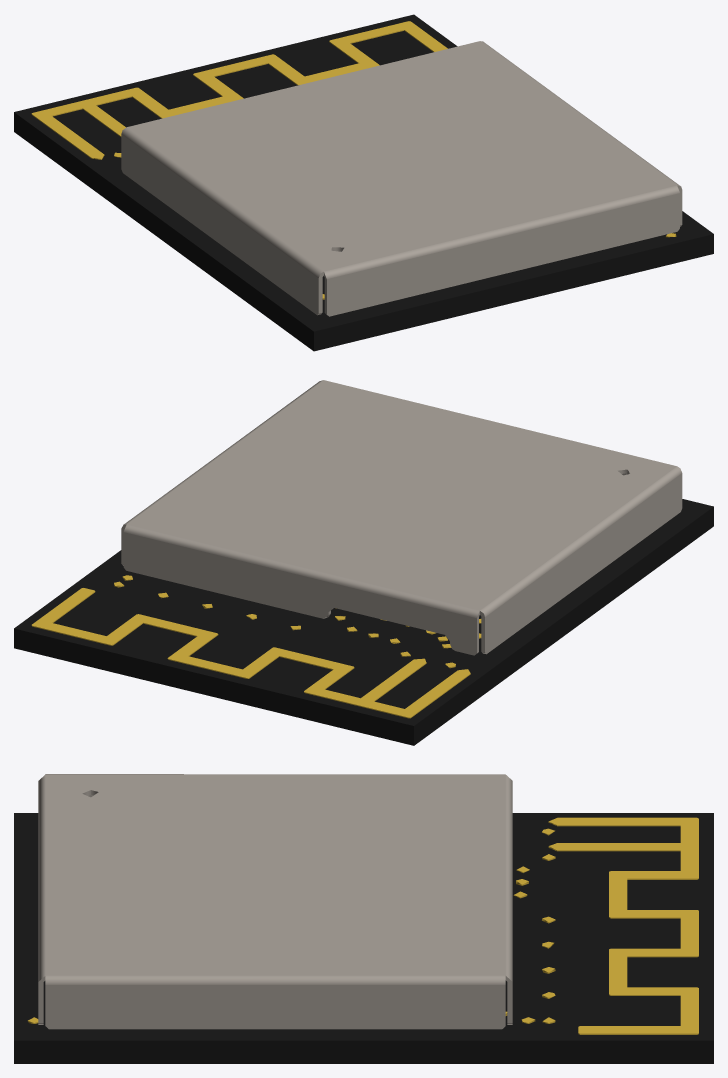
The model's file is esp-esp32-s2-mini-1.glb.
3 views of the same model, one above another, from view 1: azimuth 30°, elevation 25°; view 2: azimuth 150°, elevation 25°; view 3: azimuth 270°, elevation 25° (orthographic). The views are drawn at different scales.
Parts seen in each view (by area): view 1: 0.4166666666666667_0.3333333333333333_0.3333333333333333_0, 0_0_0_0, 0.6666666666666666_0.4166666666666667_0_0; view 2: 0.4166666666666667_0.3333333333333333_0.3333333333333333_0, 0_0_0_0, 0.6666666666666666_0.4166666666666667_0_0; view 3: 0.4166666666666667_0.3333333333333333_0.3333333333333333_0, 0_0_0_0, 0.6666666666666666_0.4166666666666667_0_0.
Boxes of the visible parts, x1,y1,x2,y2 form: 0.4166666666666667_0.3333333333333333_0.3333333333333333_0: [121, 41, 682, 316]; 0_0_0_0: [14, 14, 713, 351]; 0.6666666666666666_0.4166666666666667_0_0: [31, 21, 676, 299]; 0.4166666666666667_0.3333333333333333_0.3333333333333333_0: [121, 380, 682, 655]; 0_0_0_0: [14, 499, 713, 745]; 0.6666666666666666_0.4166666666666667_0_0: [31, 575, 481, 718]; 0.4166666666666667_0.3333333333333333_0.3333333333333333_0: [38, 774, 512, 1029]; 0_0_0_0: [14, 813, 713, 1063]; 0.6666666666666666_0.4166666666666667_0_0: [28, 817, 698, 1034].
Size of the model in its own units: 1.54 by 0.2399 by 2.
